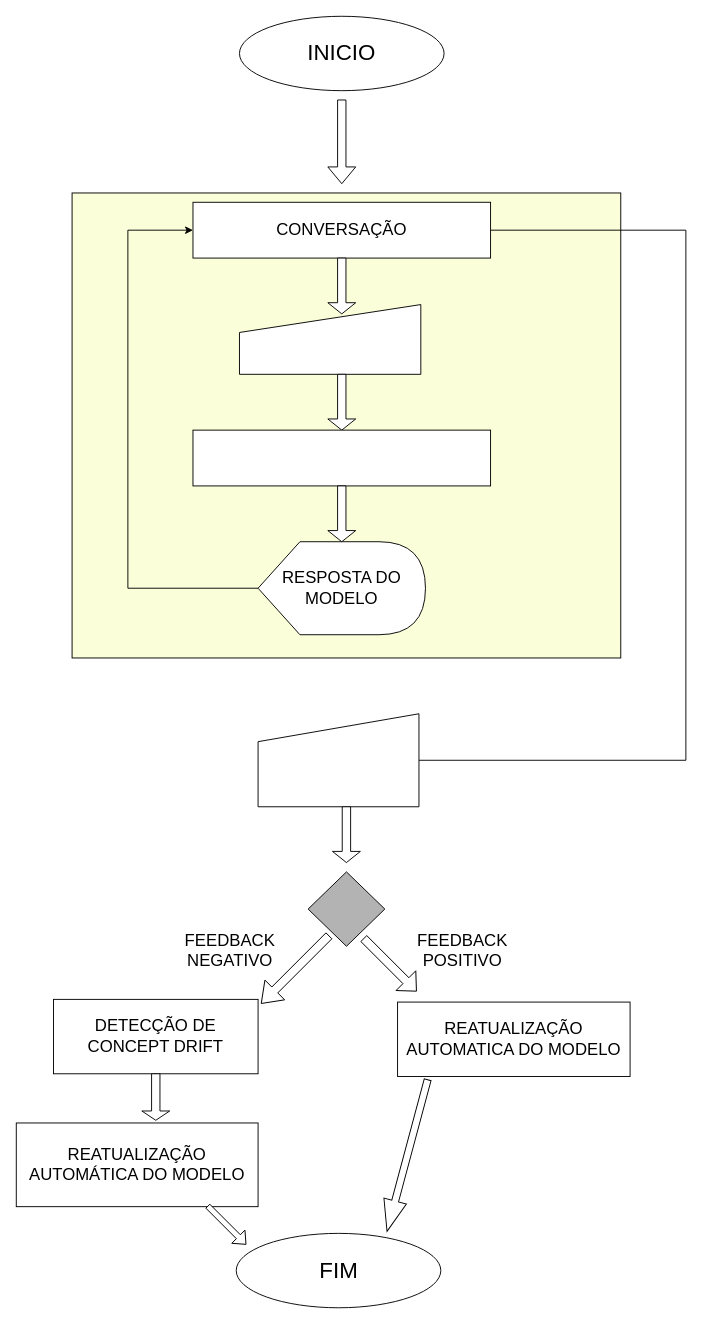
Image size: 703x1324. Some labels were removed from this diagram. The centre of each missing label's shape, as x and y in pixels:
"ANALISE DE SENTIMENTOS" belongs at point (341, 457).
"FEEDBACK DO USUÁRIO" belongs at point (338, 760).
"PERGUNTA" belongs at point (330, 339).
"SE" belongs at point (346, 908).
